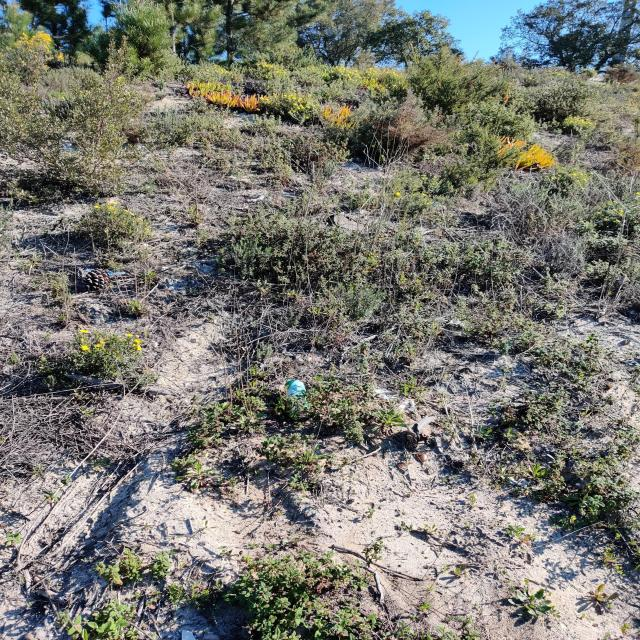litter: (281, 380, 308, 411)
